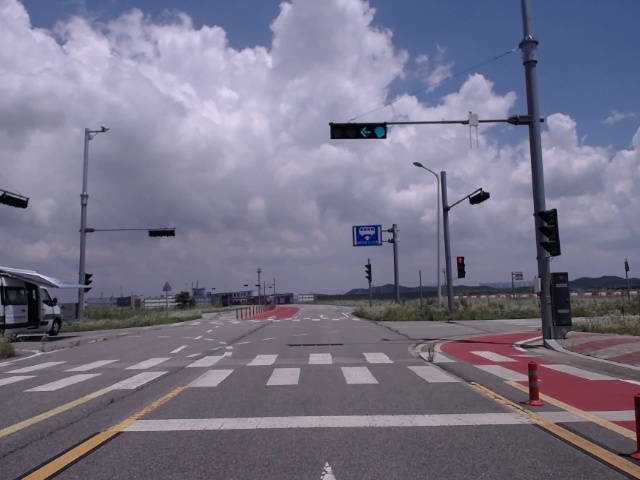all_green_4: (330, 124, 388, 138)
